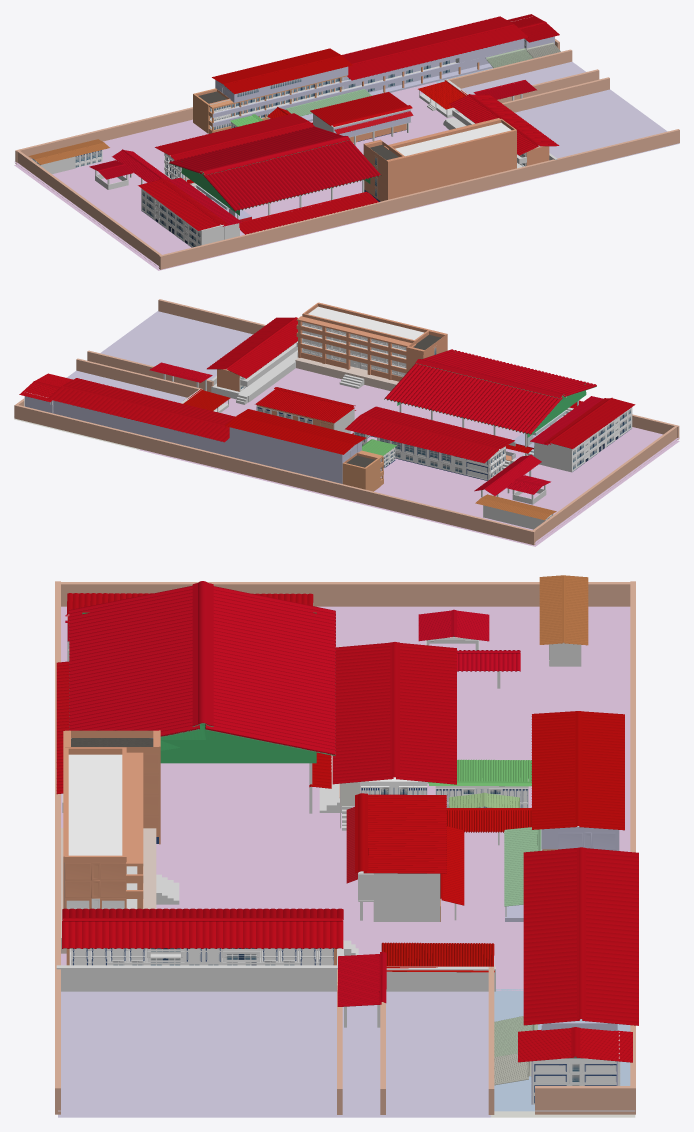
File: school.glb
The picture shows the model from 3 angles, top to bottom: view 1: azimuth 30°, elevation 25°; view 2: azimuth 150°, elevation 25°; view 3: azimuth 270°, elevation 25°; orthographic projection. The views are drawn at different scales.
Visible parts, largest first — view 1: Plane.004, polySurface1117.006, Cube.002, Plane.006, Cube.025, polySurface1117.003, polySurface1117.004, polySurface1117.005, polySurface1117, Cube.001, Cube, polySurface1121.014 (+30 smaller); view 2: Plane.004, polySurface1117.006, Cube, Plane.006, polySurface1117.003, polySurface1117.005, Cube.029, polySurface1117.004, polySurface1117, Cube.267, Cube.001, Cube.002 (+30 smaller); view 3: Plane.004, Plane.006, polySurface1117.006, polySurface1117.003, polySurface1117.005, polySurface1117, polySurface1117.004, Cube.001, Cube.004, polySurface1121.001, polySurface1117.013, polySurface1117.012 (+31 smaller).
Boxes of the visible parts, <box> form: Plane.004: <box>14,82,456,267</box>; polySurface1117.006: <box>169,126,381,211</box>; Cube.002: <box>159,129,679,269</box>; Plane.006: <box>461,61,667,158</box>; Cube.025: <box>387,130,516,199</box>; polySurface1117.003: <box>341,16,528,80</box>; polySurface1117.004: <box>212,48,352,94</box>; polySurface1117.005: <box>155,113,314,160</box>; polySurface1117: <box>449,94,559,155</box>; Cube.001: <box>17,150,162,267</box>; Cube: <box>15,107,192,164</box>; polySurface1121.014: <box>239,191,378,234</box>; Plane.004: <box>221,368,679,543</box>; polySurface1117.006: <box>384,349,596,434</box>; Cube: <box>14,405,535,544</box>; Plane.006: <box>66,311,253,402</box>; polySurface1117.003: <box>47,378,234,442</box>; polySurface1117.005: <box>345,406,514,463</box>; Cube.029: <box>229,427,343,483</box>; polySurface1117.004: <box>225,409,366,454</box>; polySurface1117: <box>207,317,297,378</box>; Cube.267: <box>53,400,229,456</box>; Cube.001: <box>531,426,677,544</box>; Cube.002: <box>158,299,679,439</box>; Plane.004: <box>61,606,630,990</box>; Plane.006: <box>58,991,488,1111</box>; polySurface1117.006: <box>69,581,335,755</box>; polySurface1117.003: <box>523,847,638,1025</box>; polySurface1117.005: <box>332,642,456,784</box>; polySurface1117: <box>62,908,343,948</box>; polySurface1117.004: <box>531,711,624,830</box>; Cube.001: <box>58,582,635,606</box>; Cube.004: <box>56,965,337,991</box>; polySurface1121.001: <box>355,793,446,873</box>; polySurface1117.013: <box>518,1027,632,1062</box>; polySurface1117.012: <box>539,575,588,645</box>.
Bounding box in the file's own units: 833 × 81.41 × 404.
158 materials, 57 textured.
